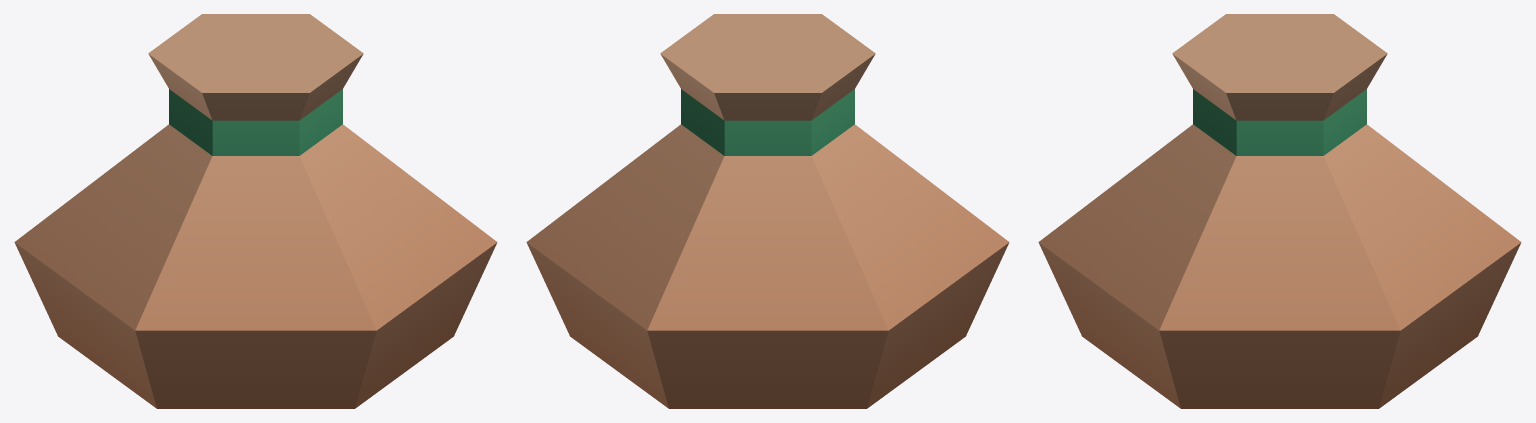
Rendered from dim-sum.glb.
The picture shows the model from 3 angles, left to right: view 1: azimuth 30°, elevation 25°; view 2: azimuth 150°, elevation 25°; view 3: azimuth 270°, elevation 25°; orthographic projection.
Parts seen in each view (by area): view 1: geometry_0; view 2: geometry_0; view 3: geometry_0.
Boxes of the visible parts, x1,y1,x2,y2 form: geometry_0: (14,14,497,408); geometry_0: (526,14,1009,408); geometry_0: (1038,14,1521,408).
Size of the model in its own units: 0.9266 by 0.6918 by 1.07.
